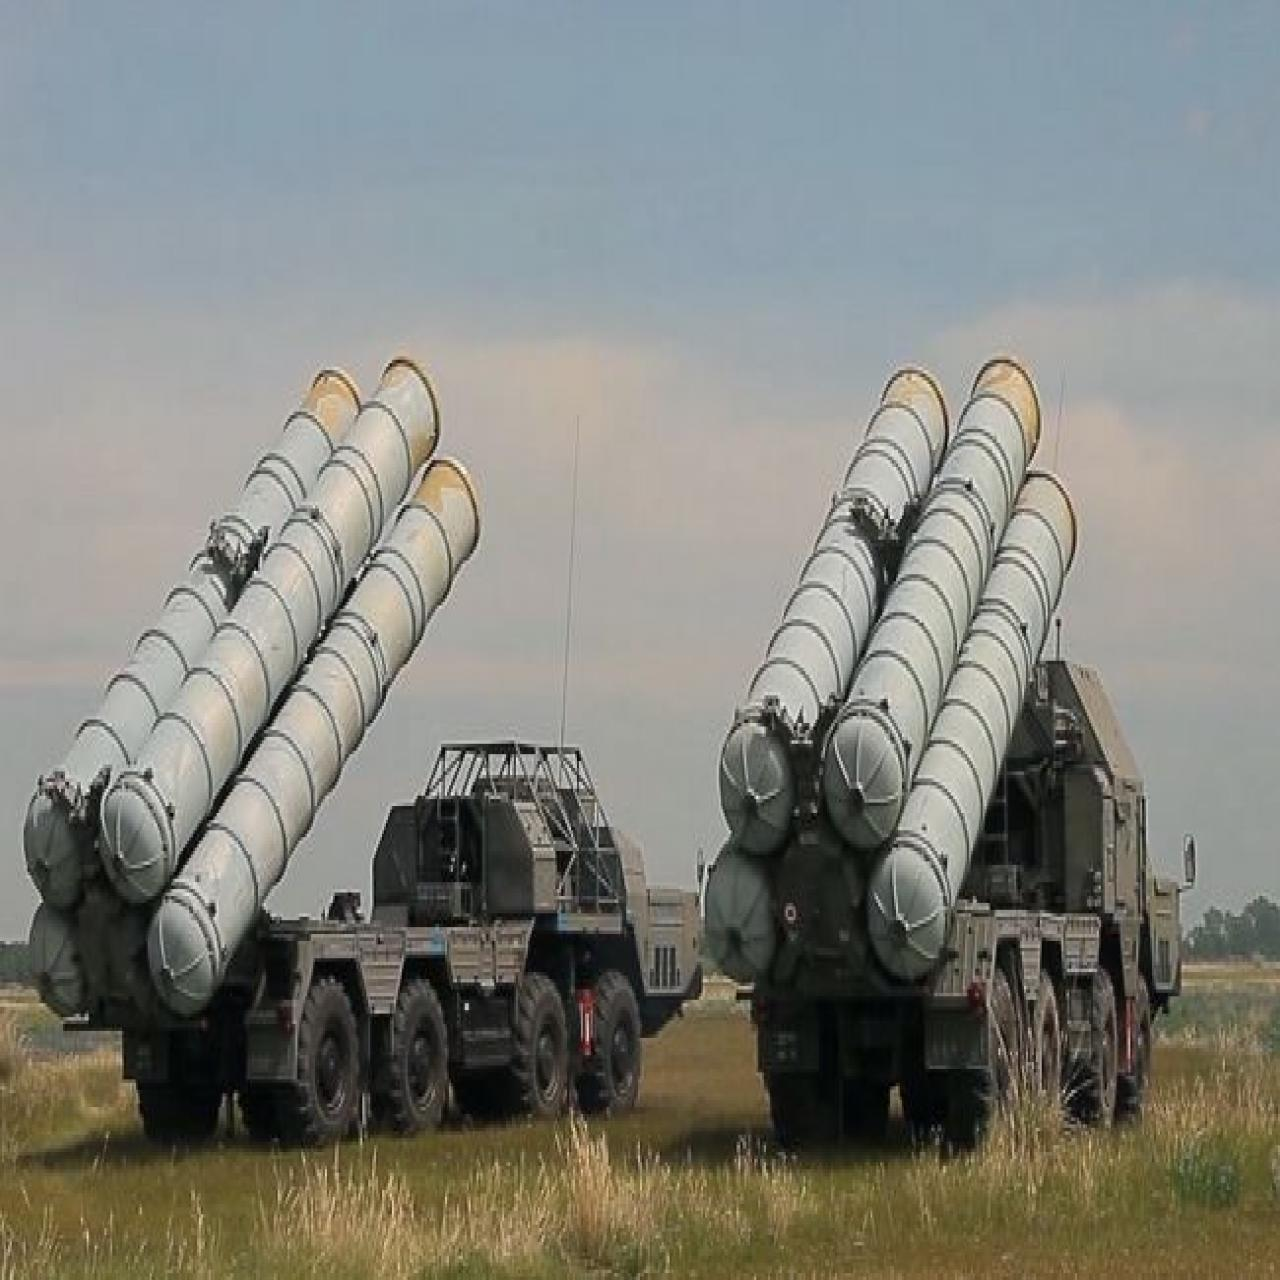MIL_Veh: (28, 359, 703, 1119), (708, 359, 1185, 1128)
